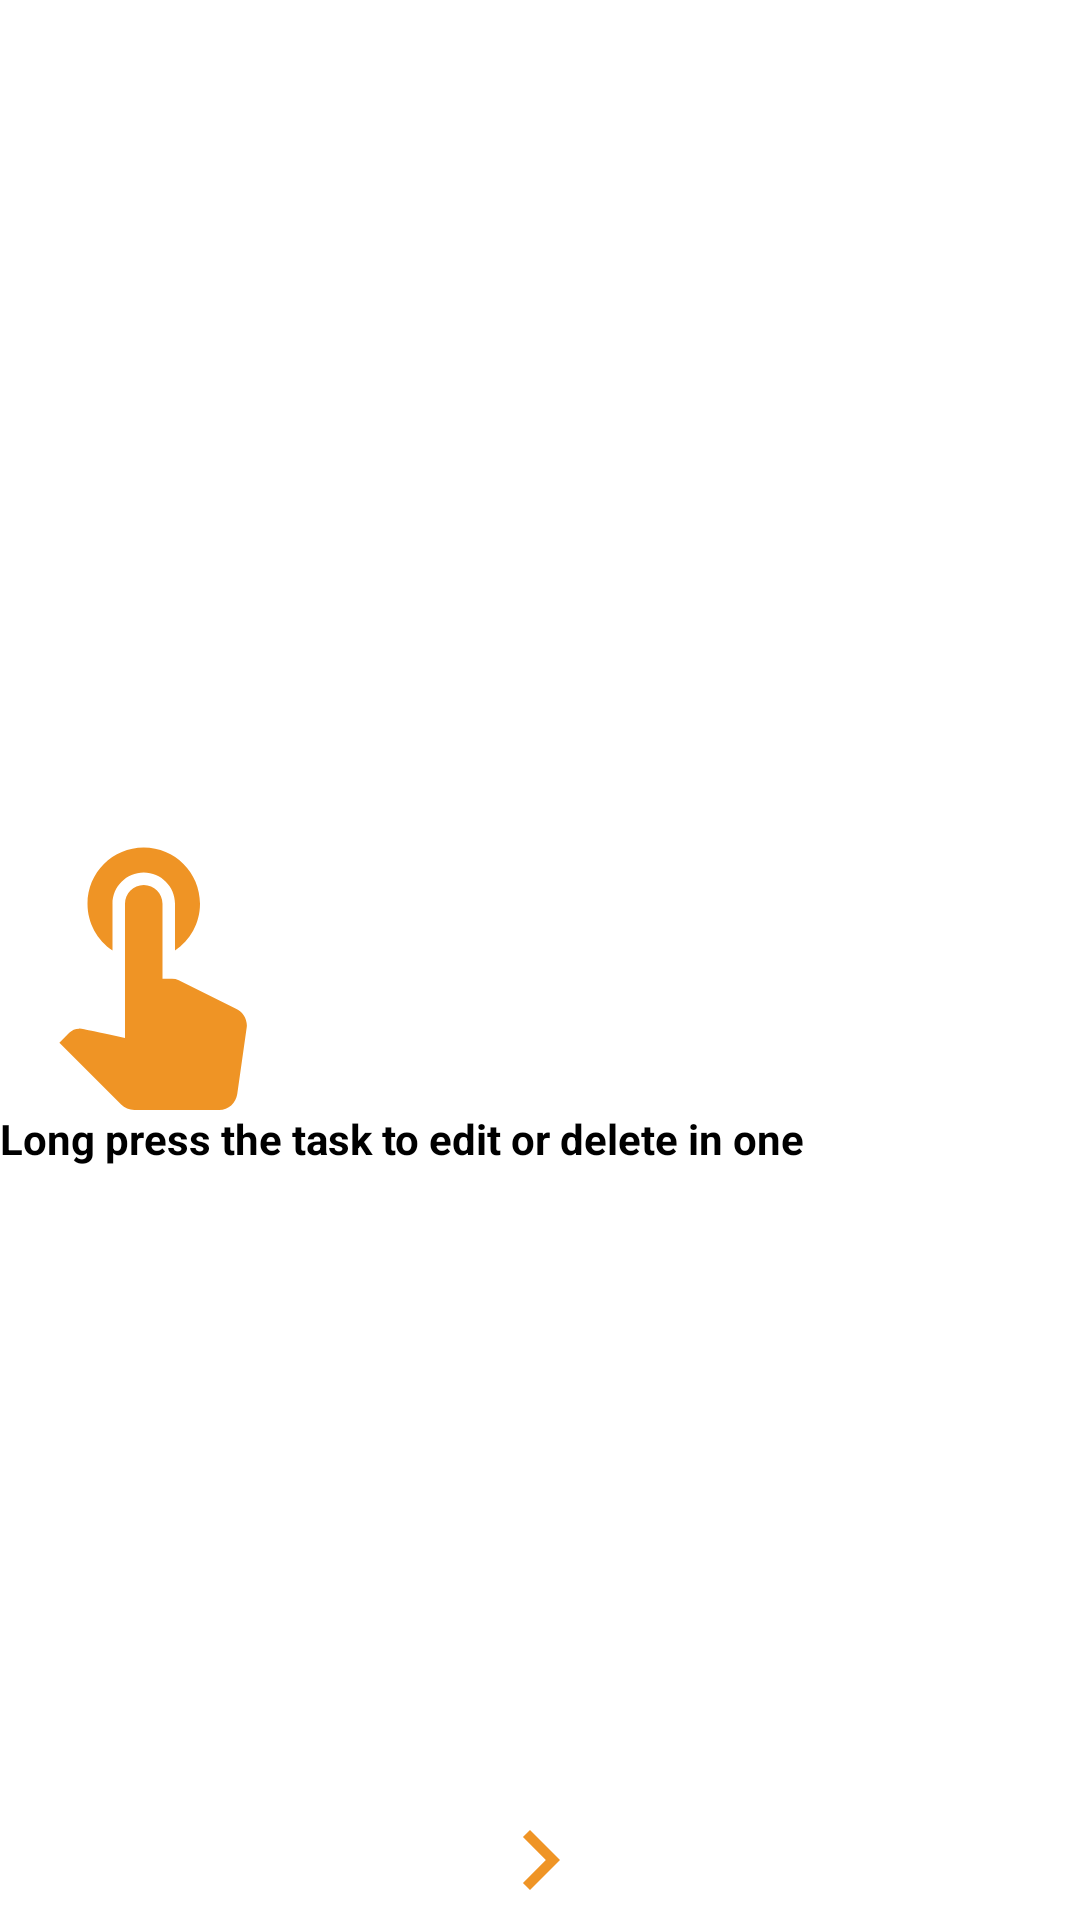

Icons on this 1080px x 1920px Android screen, each with the point to tap as point (x, y):
next: point (541, 1860)
touch app: point (153, 978)
